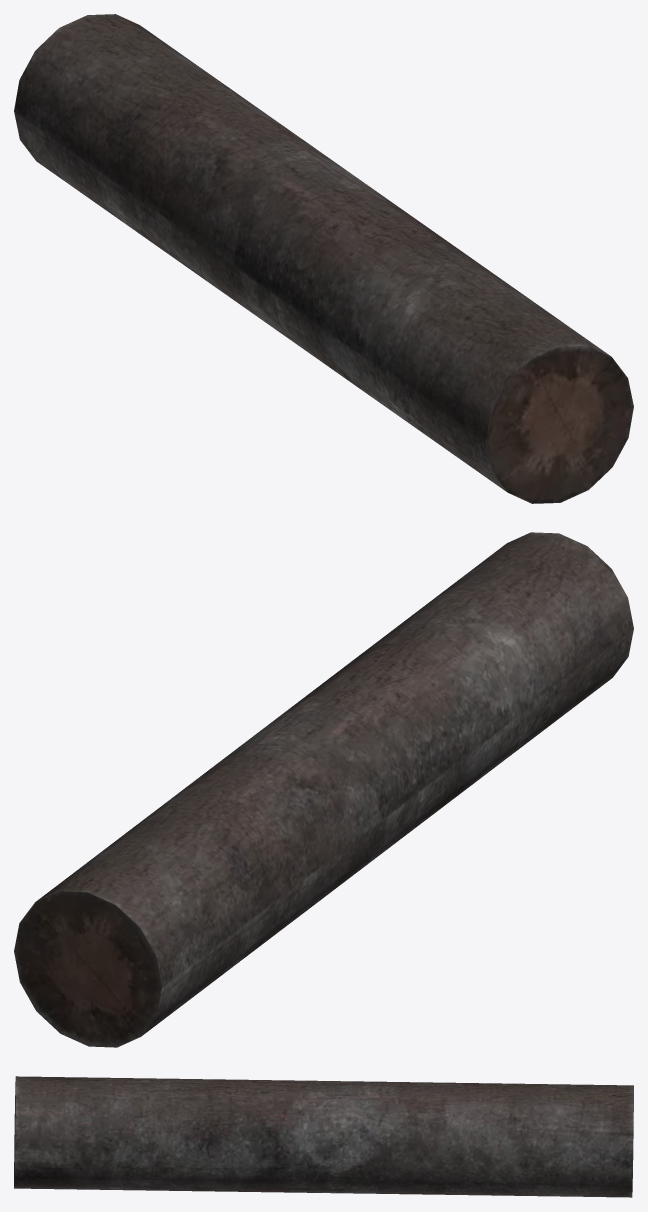
File: SupportWoodB.glb
3 renders of one model, top to bottom at view 1: azimuth 30°, elevation 25°; view 2: azimuth 150°, elevation 25°; view 3: azimuth 270°, elevation 25°, orthographic. The views are drawn at different scales.
Visible parts, largest first — view 1: SupportWoodB; view 2: SupportWoodB; view 3: SupportWoodB.
Boxes of the visible parts, x1,y1,x2,y2 form: SupportWoodB: (14,14,633,503); SupportWoodB: (14,532,633,1047); SupportWoodB: (14,1076,633,1197).
Bounding box in the file's own units: 0.2251 × 0.245 × 1.24.
Materials: 1 (1 with a texture image).
